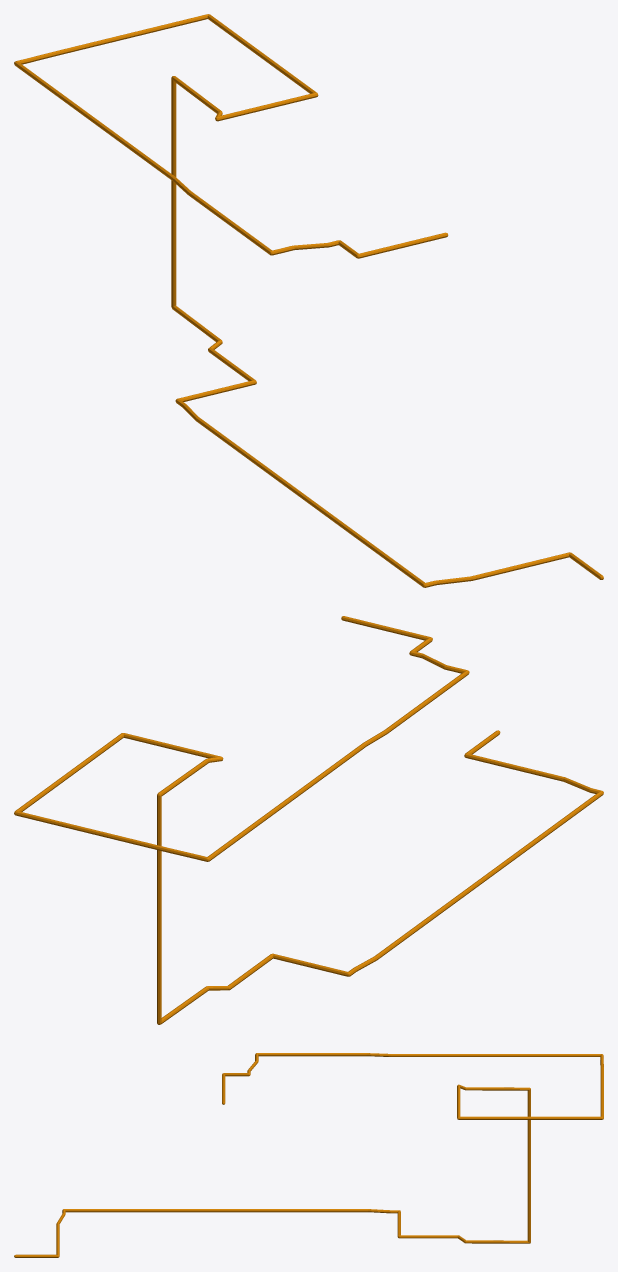
3 views of the same model, one above another, from view 1: azimuth 30°, elevation 25°; view 2: azimuth 150°, elevation 25°; view 3: azimuth 270°, elevation 25° (orthographic). The views are drawn at different scales.
Bounding box in the file's own units: 912 × 1020 × 3494.
